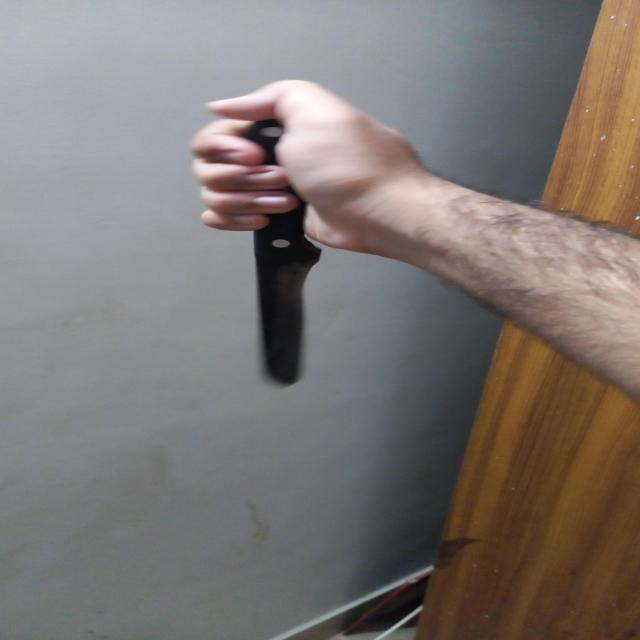faca: (246, 119, 321, 388)
